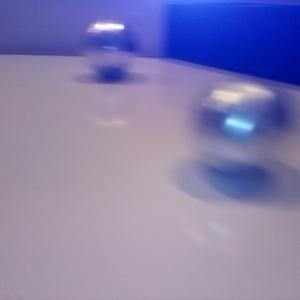alive_ball: (190, 77, 288, 175), (82, 19, 134, 76)
